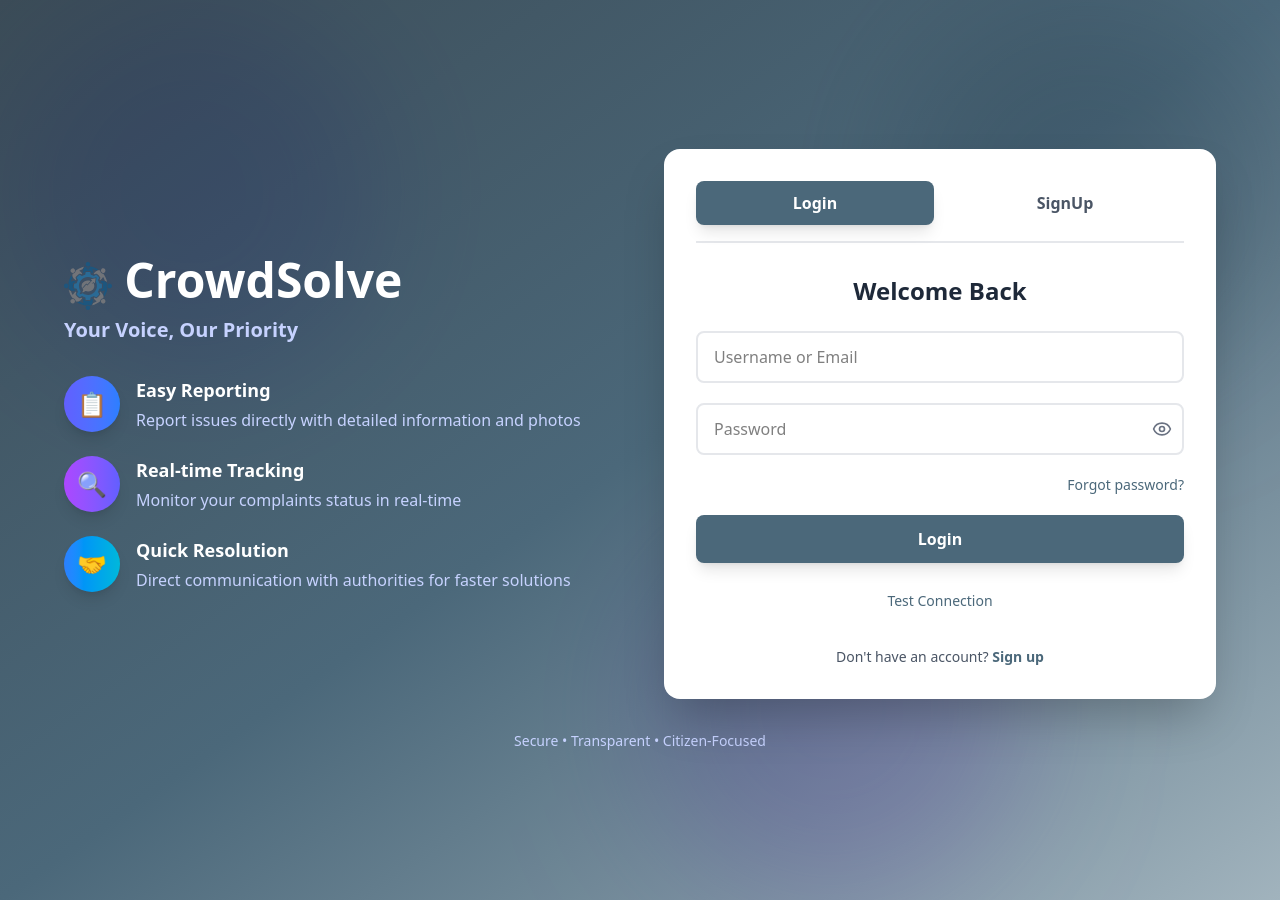
Test: LoginForm - Full Coverage › handles server error response
In the field with placeholder "Username or Email": {"x": 940, "y": 357} [696,331,1184,383], type "test"
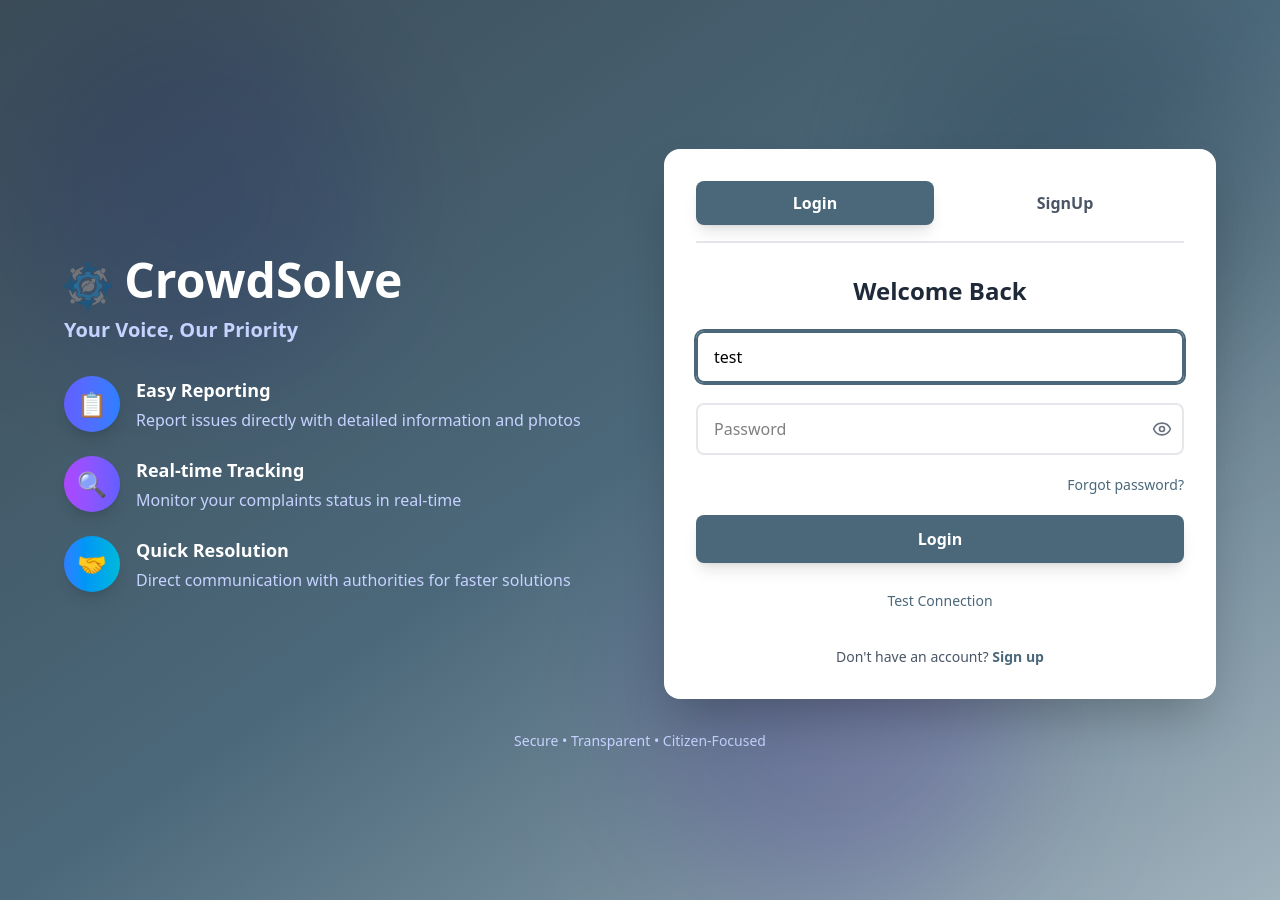
In the password field with placeholder "Password": {"x": 940, "y": 429} [696,403,1184,455], type "test"
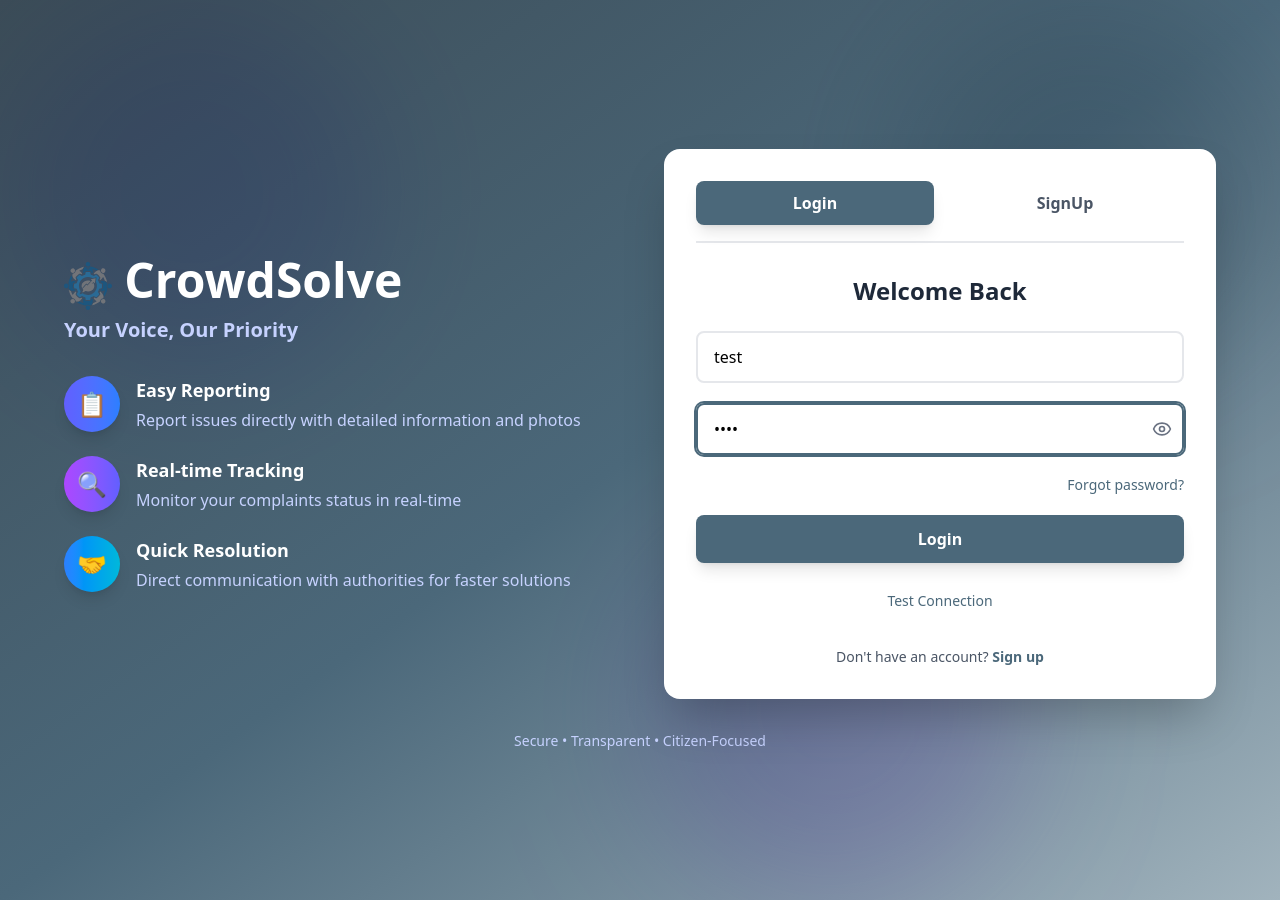
Click the button "Login" below "Welcome Back": {"x": 940, "y": 539} [696,515,1184,563]
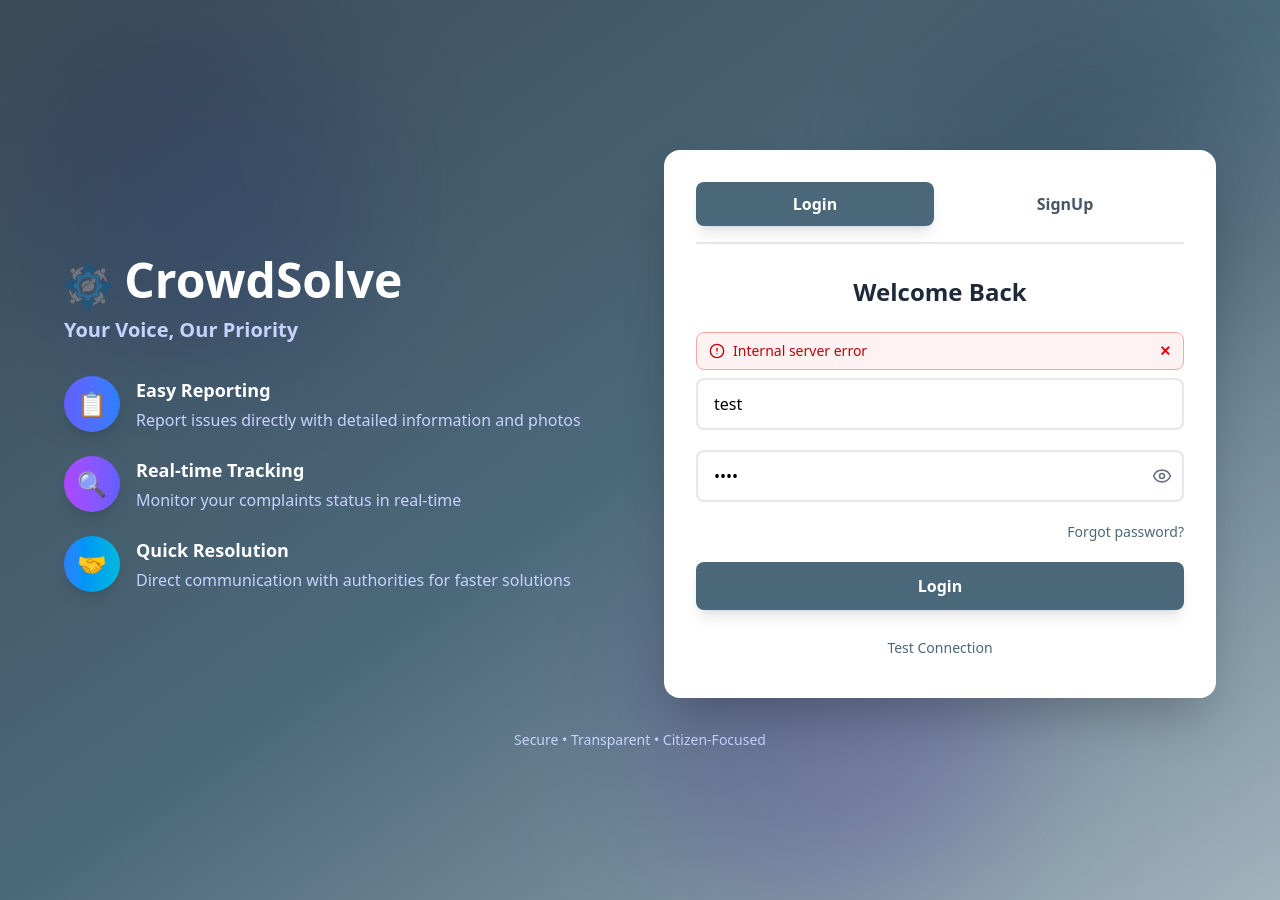
Expected: the text "Internal server error" is shown, [733,341,867,361]
